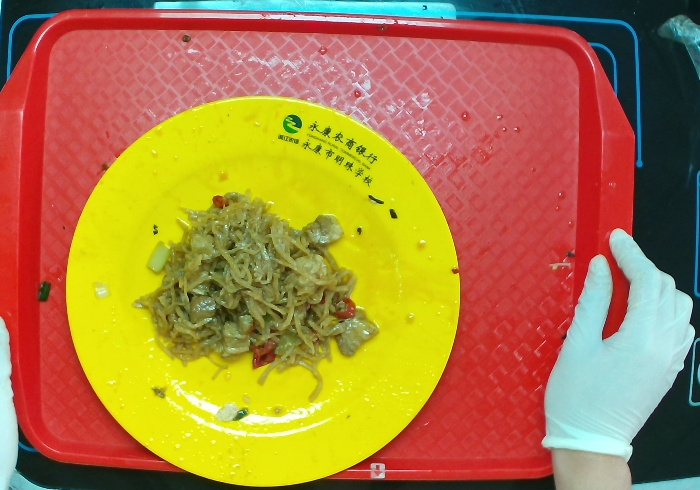YKMZ-Huang_Se_Mian_Pan: (65, 95, 464, 490)
